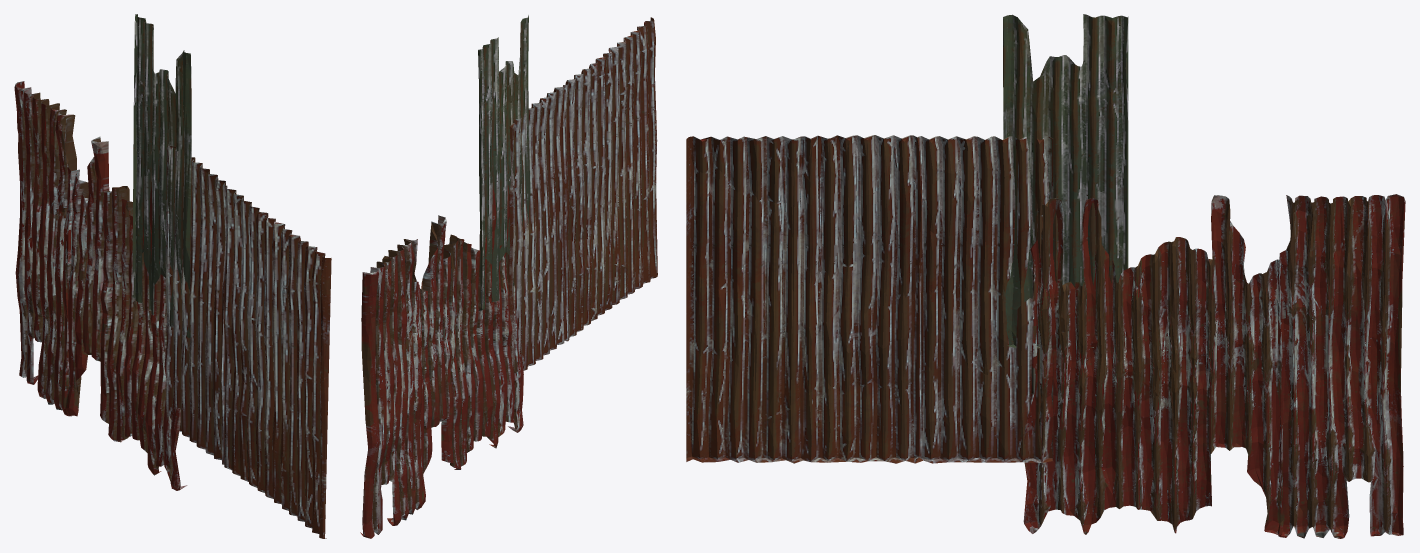
Rendered from SM_Corrugated_Metal_2.fbx.
The picture shows the model from 3 angles, left to right: view 1: azimuth 30°, elevation 25°; view 2: azimuth 150°, elevation 25°; view 3: azimuth 270°, elevation 25°; orthographic projection. The views are drawn at different scales.
Visible parts, largest first — view 1: SM_Corrugated_Metal_2_LOD0; view 2: SM_Corrugated_Metal_2_LOD0; view 3: SM_Corrugated_Metal_2_LOD0.
Boxes of the visible parts, x1,y1,x2,y2 form: SM_Corrugated_Metal_2_LOD0: (14, 14, 331, 538); SM_Corrugated_Metal_2_LOD0: (360, 15, 657, 538); SM_Corrugated_Metal_2_LOD0: (686, 14, 1405, 538).
Size of the model in its own units: 14.43 by 386 by 310.
1 material, 1 textured.
